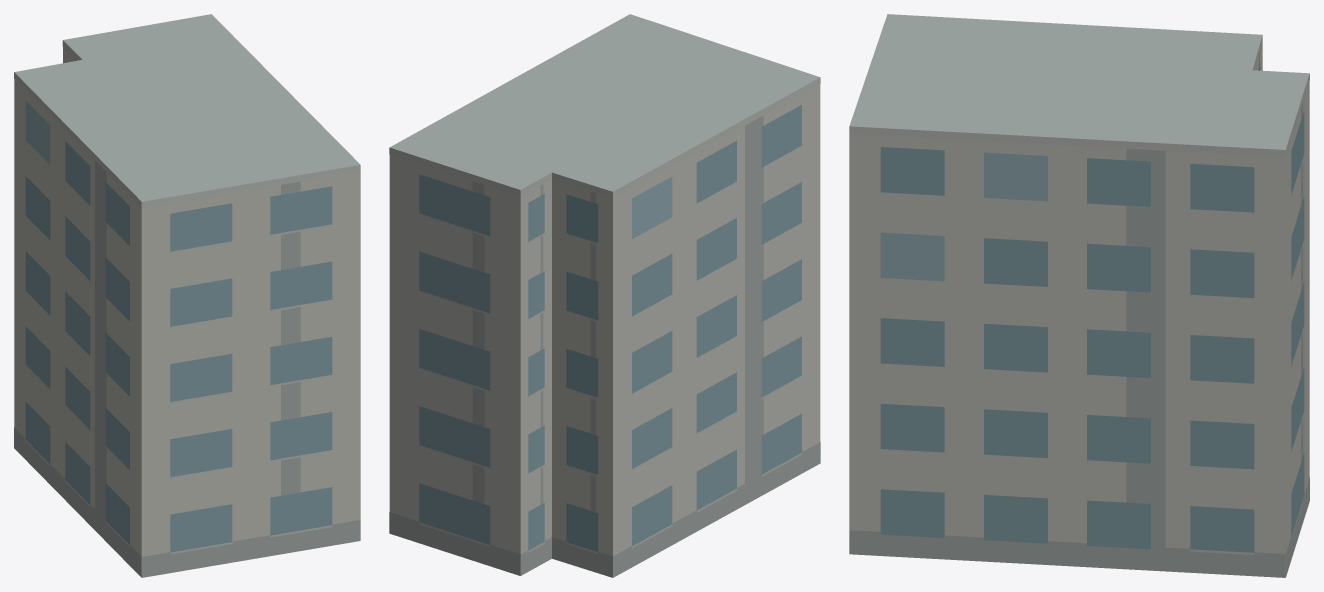
The model's file is survey-upis-32823253.glb.
3 views of the same model, side by side, from view 1: azimuth 30°, elevation 25°; view 2: azimuth 150°, elevation 25°; view 3: azimuth 270°, elevation 25° (orthographic). The views are drawn at different scales.
Parts seen in each view (by area): view 1: survey-upis-32823253.tmp; view 2: survey-upis-32823253.tmp; view 3: survey-upis-32823253.tmp.
Part boxes in pixels (bbox=[...]): survey-upis-32823253.tmp: bbox=[14, 14, 360, 577]; survey-upis-32823253.tmp: bbox=[389, 14, 820, 577]; survey-upis-32823253.tmp: bbox=[849, 14, 1309, 577].
Size of the model in its own units: 9.55 by 14 by 13.66.
